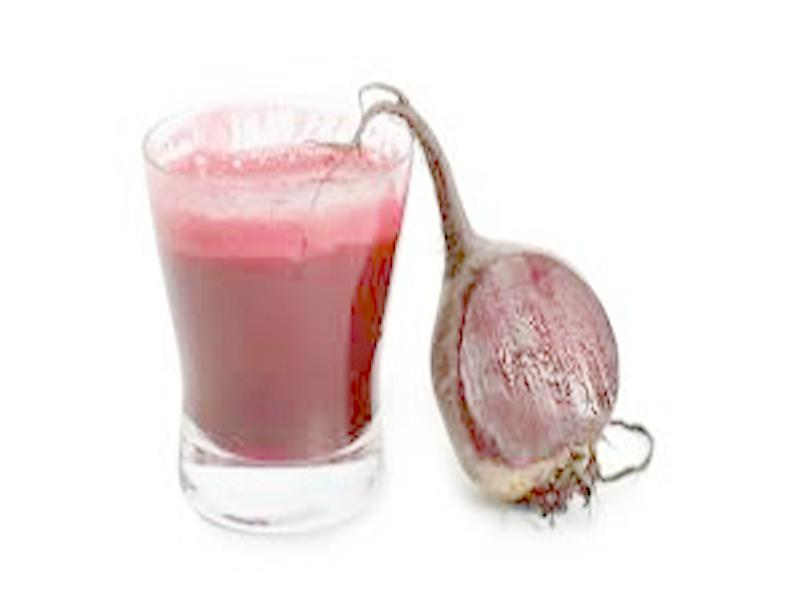Beet: (317, 82, 652, 521)
